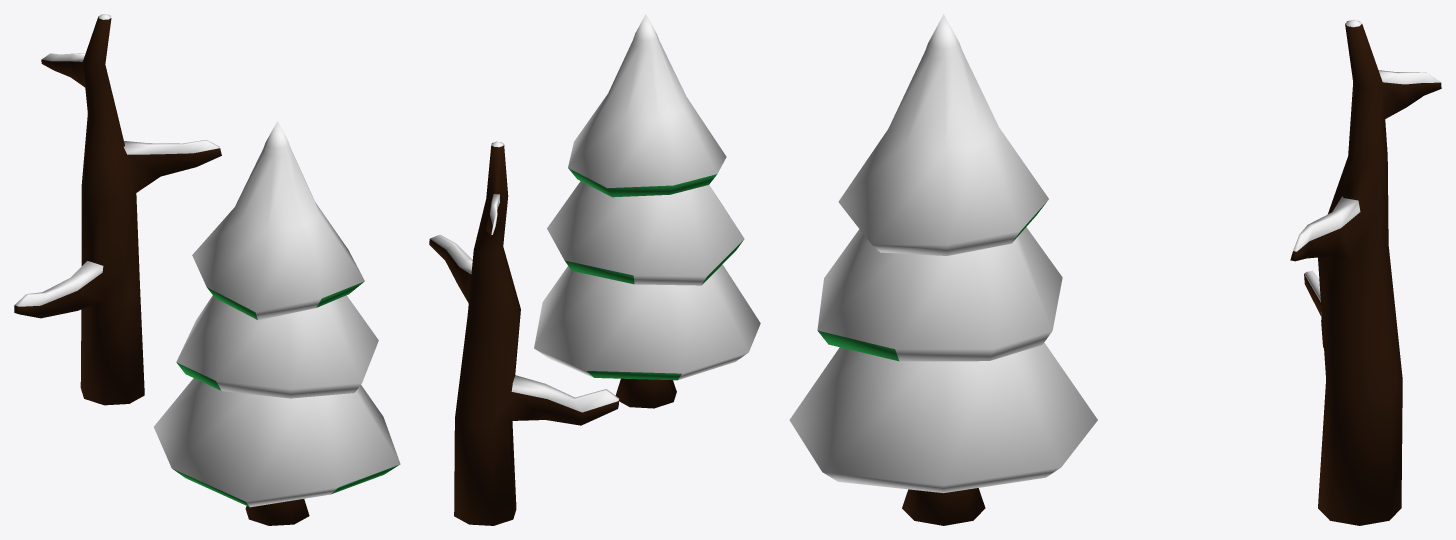
File: pinetree.glb
The picture shows the model from 3 angles, left to right: view 1: azimuth 30°, elevation 25°; view 2: azimuth 150°, elevation 25°; view 3: azimuth 270°, elevation 25°; orthographic projection. The views are drawn at different scales.
Visible parts, largest first — view 1: Plane, Plane.001; view 2: Plane, Plane.001; view 3: Plane, Plane.001.
Boxes of the visible parts, left/top/right/bottom form: Plane: left=154, top=121, right=400, bottom=525; Plane.001: left=14, top=14, right=221, bottom=405; Plane: left=534, top=14, right=760, bottom=408; Plane.001: left=429, top=141, right=619, bottom=525; Plane: left=789, top=14, right=1097, bottom=525; Plane.001: left=1290, top=19, right=1441, bottom=525.
Bounding box in the file's own units: 9.4 × 15.73 × 18.81.
Materials: 1 (1 with a texture image).
